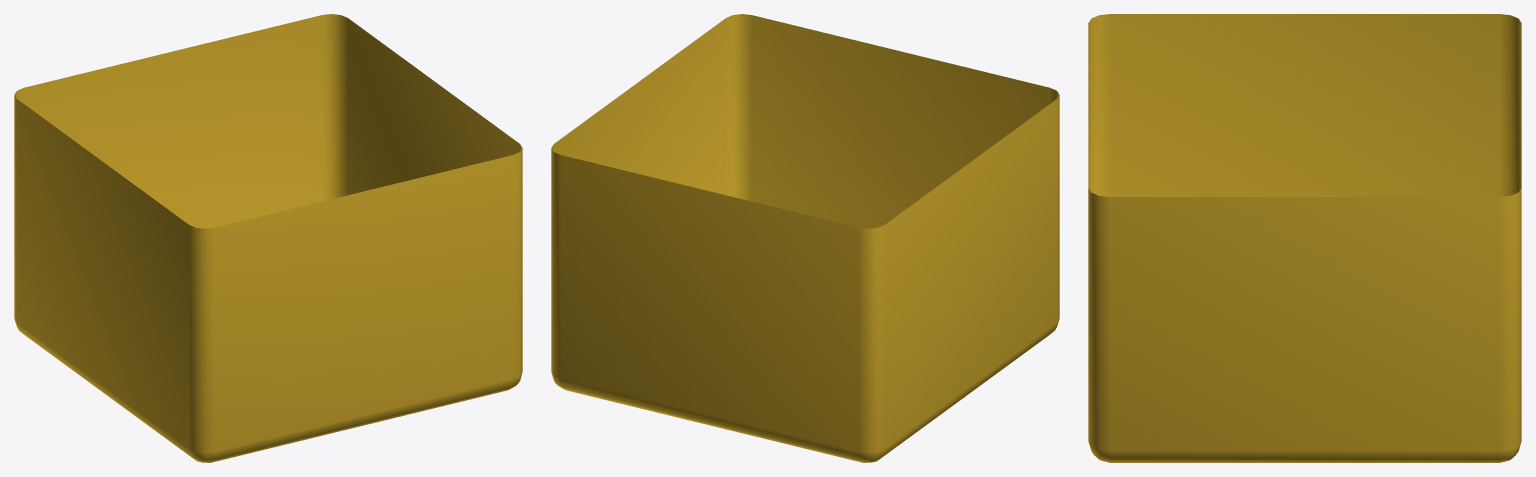
3 renders of one model, left to right at view 1: azimuth 30°, elevation 25°; view 2: azimuth 150°, elevation 25°; view 3: azimuth 270°, elevation 25°, orthographic. The views are drawn at different scales.
Visible parts, largest first — view 1: polySurface1; view 2: polySurface1; view 3: polySurface1.
Part boxes in pixels (box(x1,y1,x2,y2)): polySurface1: box(14, 14, 522, 462); polySurface1: box(551, 14, 1059, 462); polySurface1: box(1088, 14, 1521, 462).
Bounding box in the file's own units: 200 × 139 × 200.
